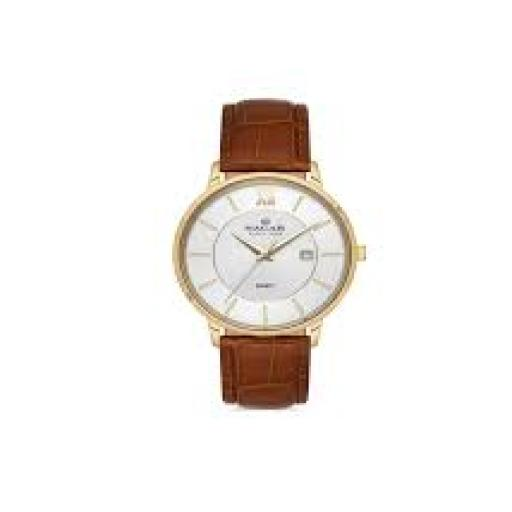KolSaati: (92, 56, 430, 444)
